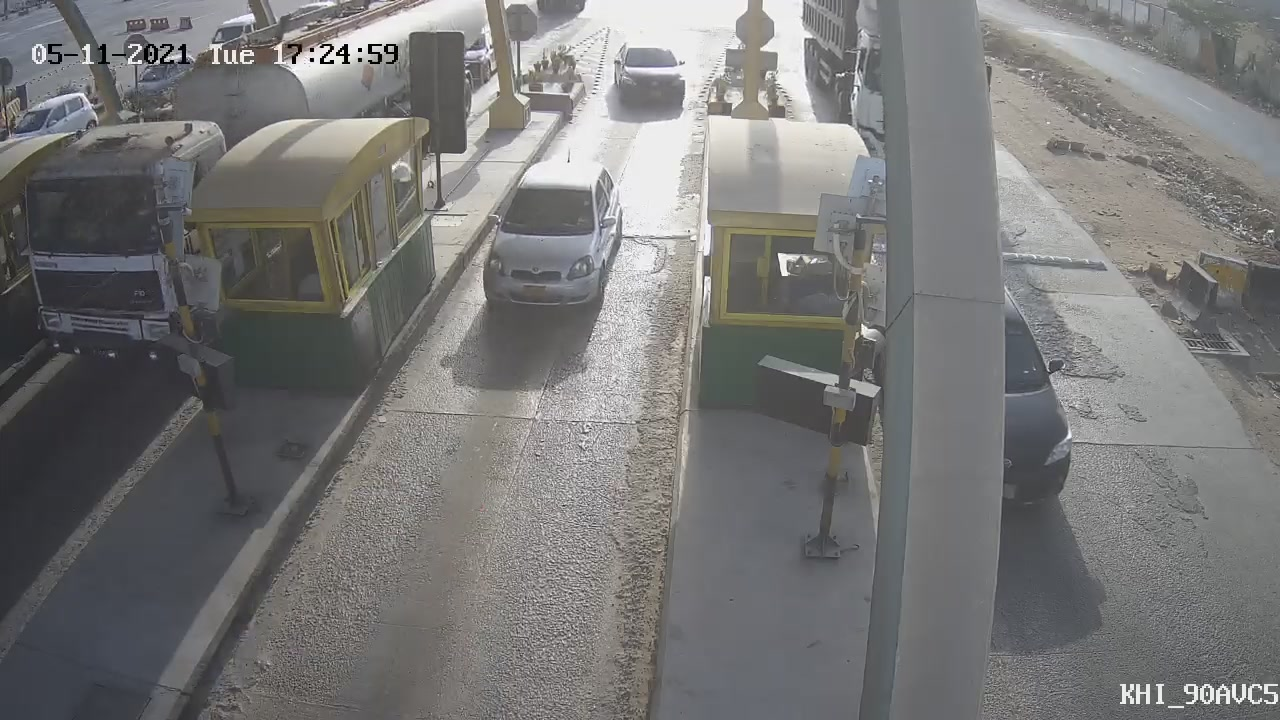F1: (463, 140, 639, 336)
